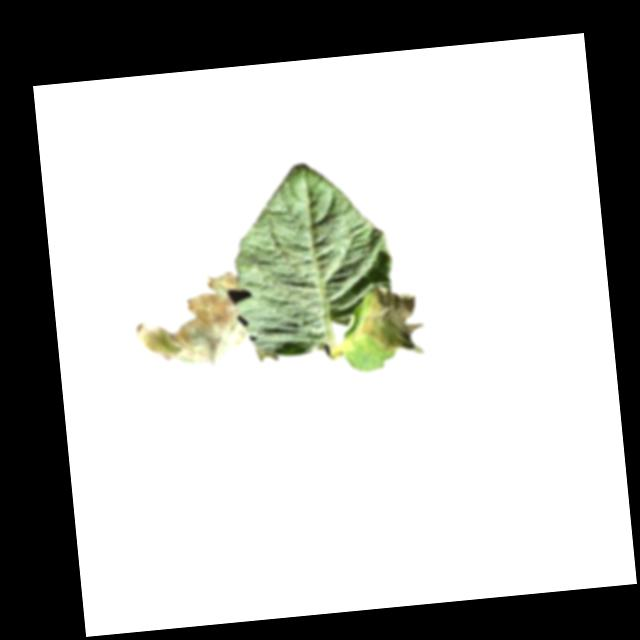Late_blight: (130, 270, 251, 374), (356, 283, 425, 360)
